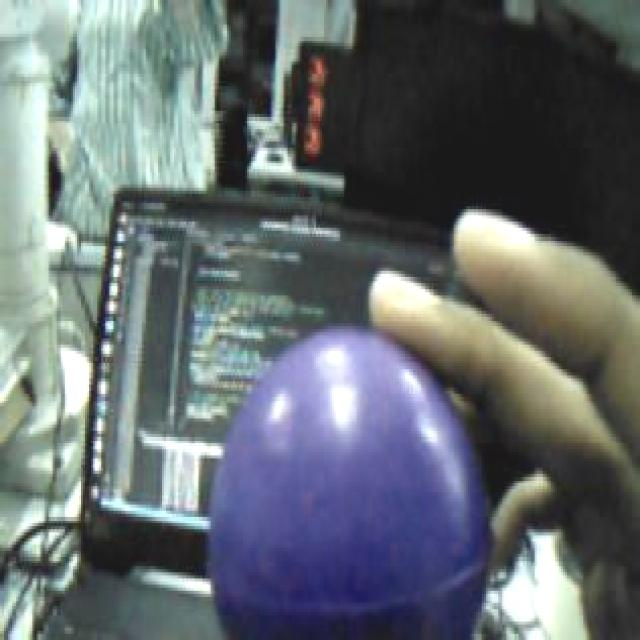BallPurple: (208, 323, 492, 640)
